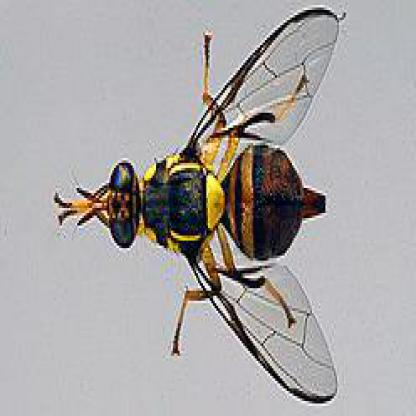fruit fly: (56, 7, 341, 407)
